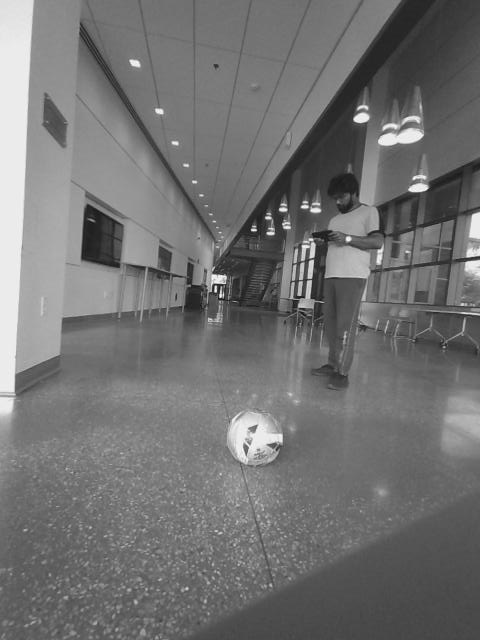ball: (222, 405, 288, 466)
